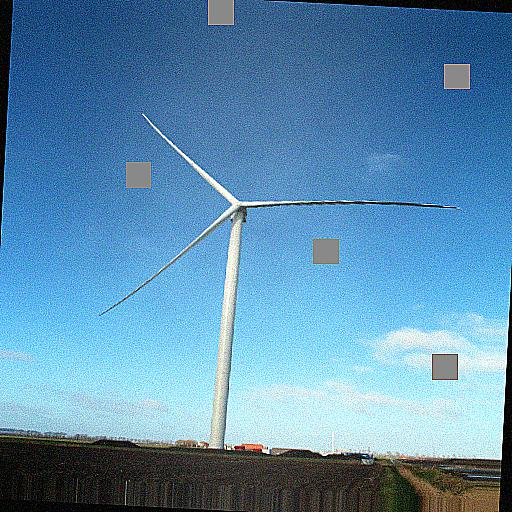wind turbine: (97, 111, 461, 463)
